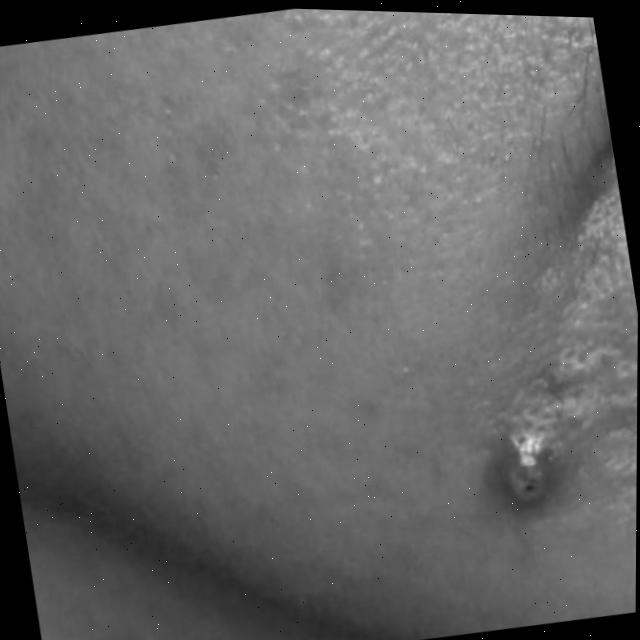Acne: (494, 426, 560, 511)
